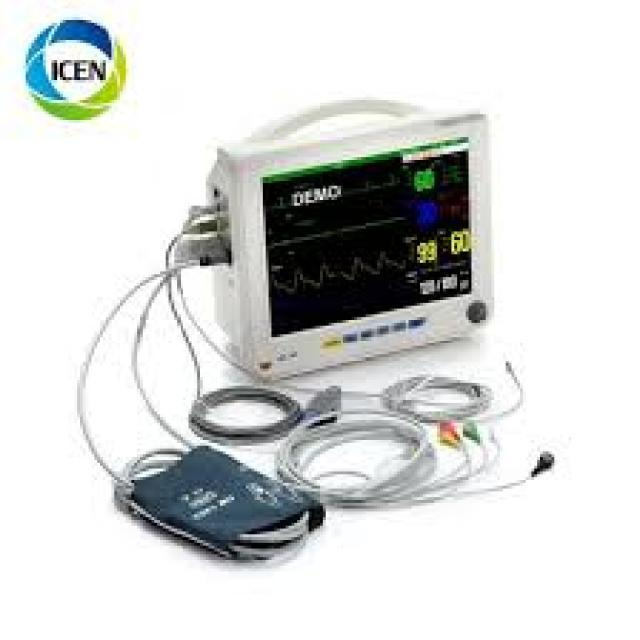cardiac_monitor: (216, 134, 494, 374)
